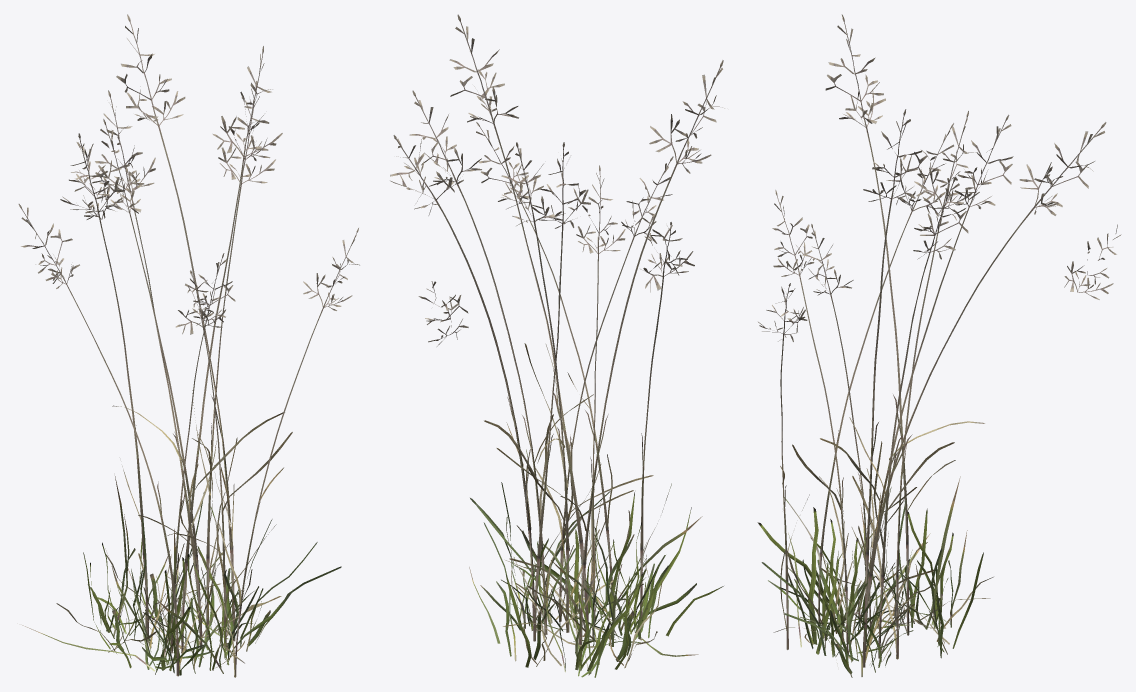
The model's file is grass.glb.
3 renders of one model, left to right at view 1: azimuth 30°, elevation 25°; view 2: azimuth 150°, elevation 25°; view 3: azimuth 270°, elevation 25°, orthographic. The views are drawn at different scales.
Parts seen in each view (by area): view 1: _hxuq_Var7_LOD0; view 2: _hxuq_Var7_LOD0; view 3: _hxuq_Var7_LOD0.
Part boxes in pixels (x1,y1,x2,y2): _hxuq_Var7_LOD0: [18, 14, 359, 677]; _hxuq_Var7_LOD0: [390, 14, 724, 677]; _hxuq_Var7_LOD0: [757, 14, 1121, 677].
Size of the model in its own units: 0.3653 by 0.7219 by 0.4063.
1 material, 1 textured.
